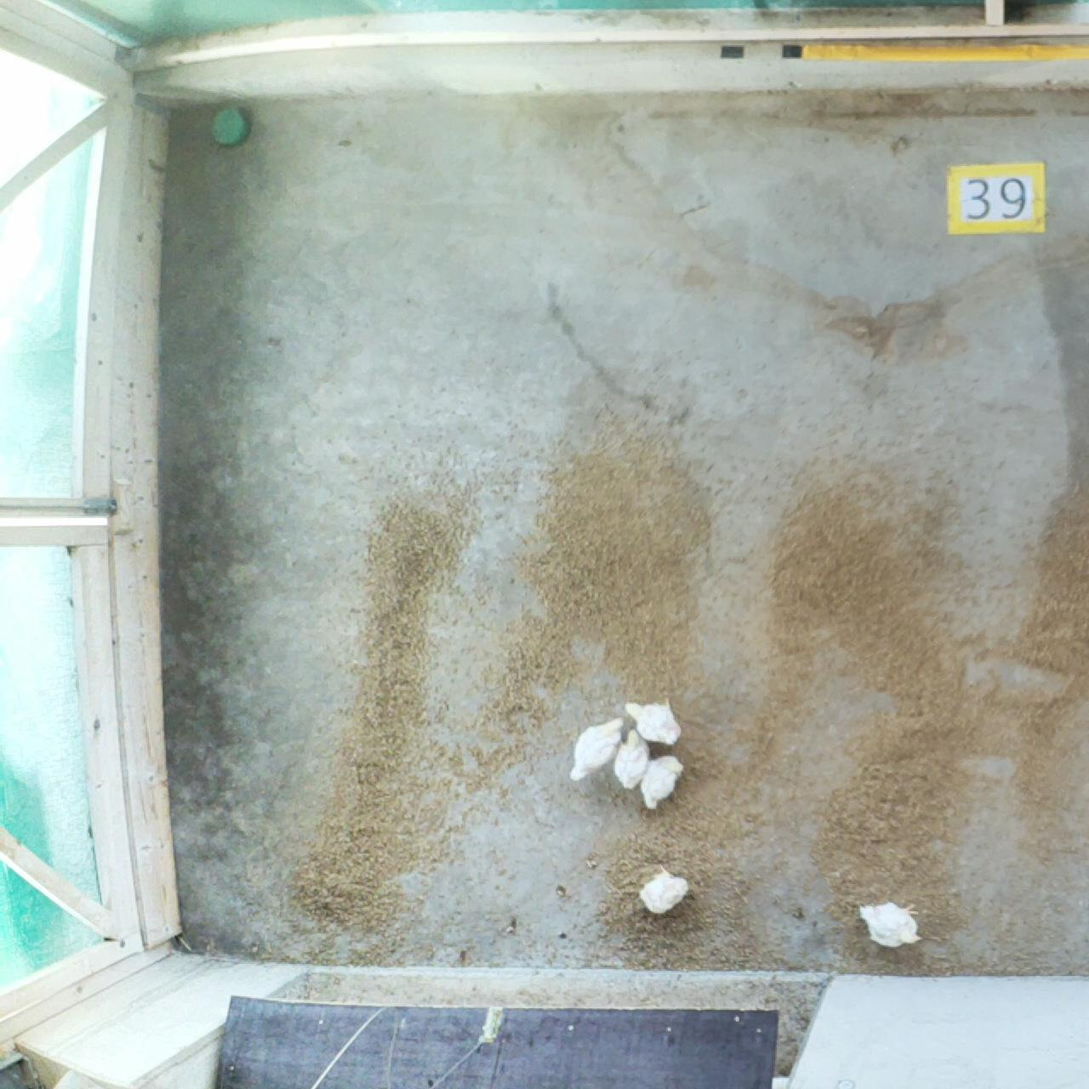chicken: (851, 889, 924, 951), (566, 711, 625, 784), (621, 693, 684, 749), (637, 751, 691, 814), (635, 859, 694, 916), (611, 724, 654, 794)
